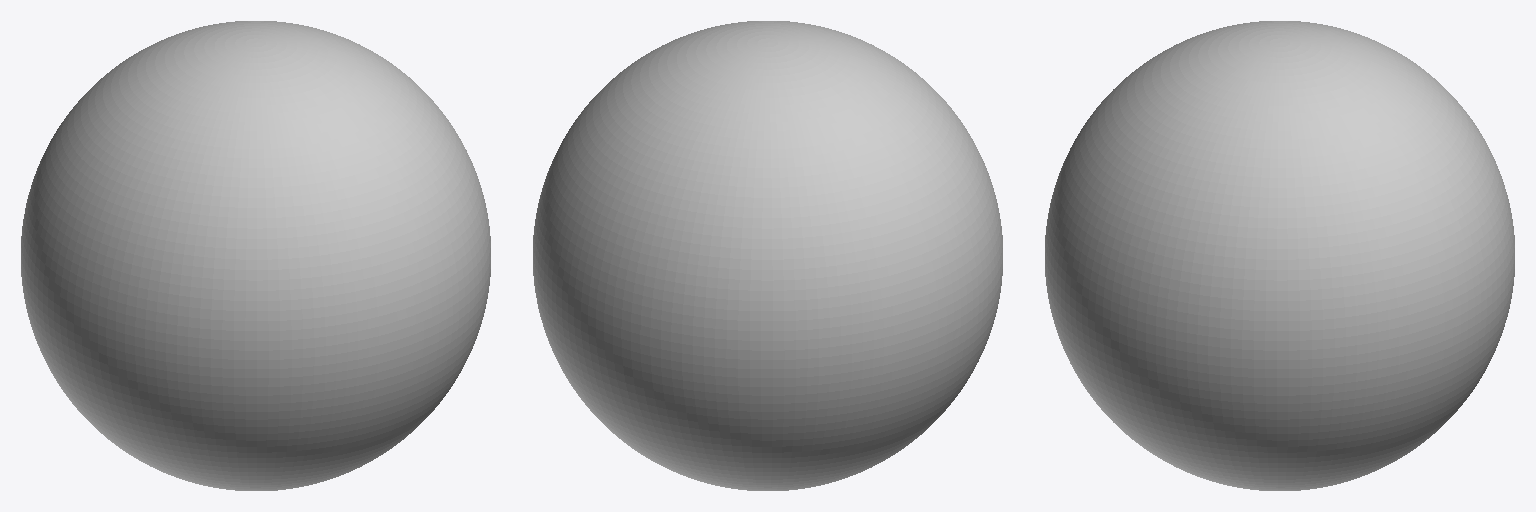
The model's file is skybox.obj.
3 renders of one model, left to right at view 1: azimuth 30°, elevation 25°; view 2: azimuth 150°, elevation 25°; view 3: azimuth 270°, elevation 25°, orthographic.
Parts seen in each view (by area): view 1: Grid; view 2: Grid; view 3: Grid.
Part boxes in pixels (bbox=[...]): Grid: bbox=[21, 21, 490, 490]; Grid: bbox=[533, 21, 1002, 490]; Grid: bbox=[1045, 21, 1514, 490].
Bounding box in the file's own units: 2 × 2 × 2.